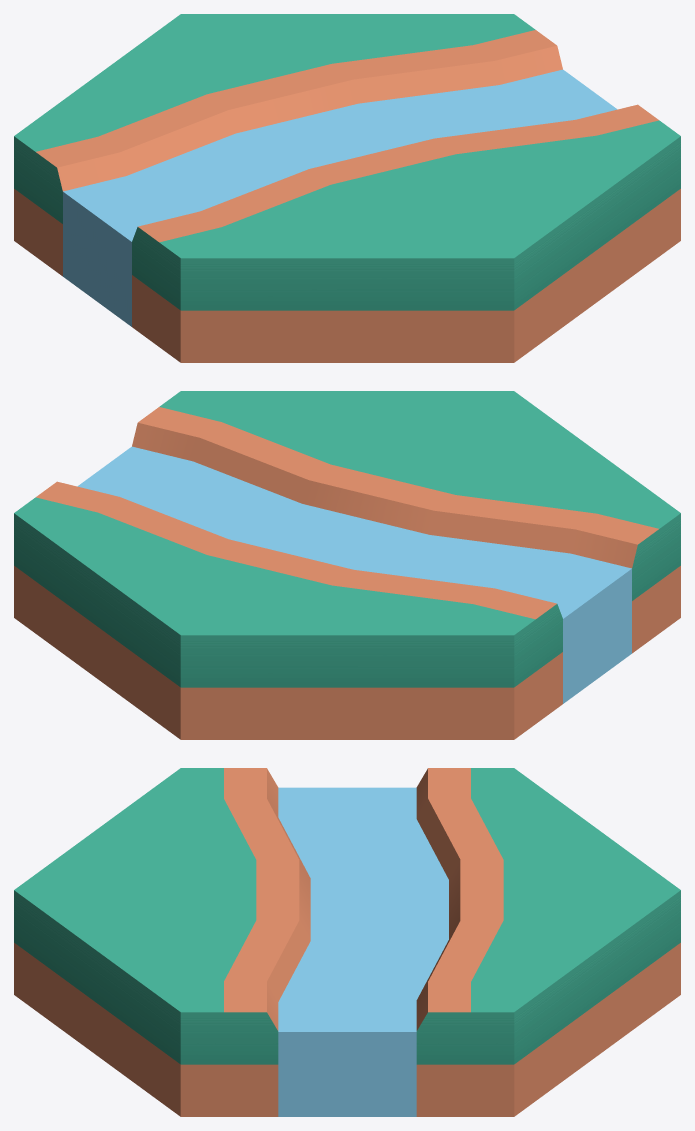
Rendered from river-straight.glb.
The picture shows the model from 3 angles, top to bottom: view 1: azimuth 30°, elevation 25°; view 2: azimuth 150°, elevation 25°; view 3: azimuth 270°, elevation 25°; orthographic projection.
Parts seen in each view (by area): view 1: river-straight; view 2: river-straight; view 3: river-straight.
Boxes of the visible parts, box(x1,y1,x2,y2) form: river-straight: box(14, 14, 680, 362); river-straight: box(14, 391, 680, 739); river-straight: box(14, 768, 680, 1116).
Size of the model in its own units: 1 by 0.2 by 1.15.
1 material, 1 textured.
